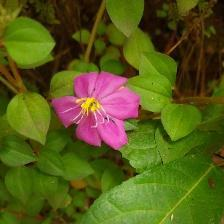malabar melastome: (53, 69, 142, 155)
